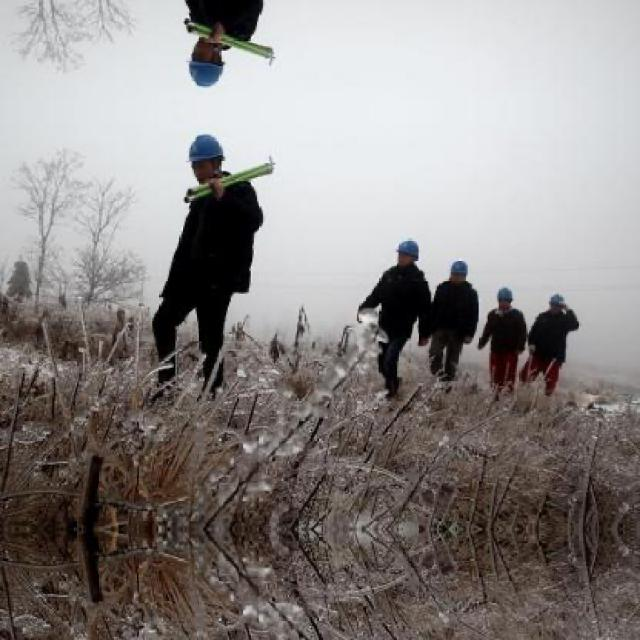helmet: (185, 128, 229, 184), (185, 36, 229, 92), (392, 233, 422, 264), (545, 288, 569, 315), (449, 254, 469, 286), (495, 283, 517, 309)
